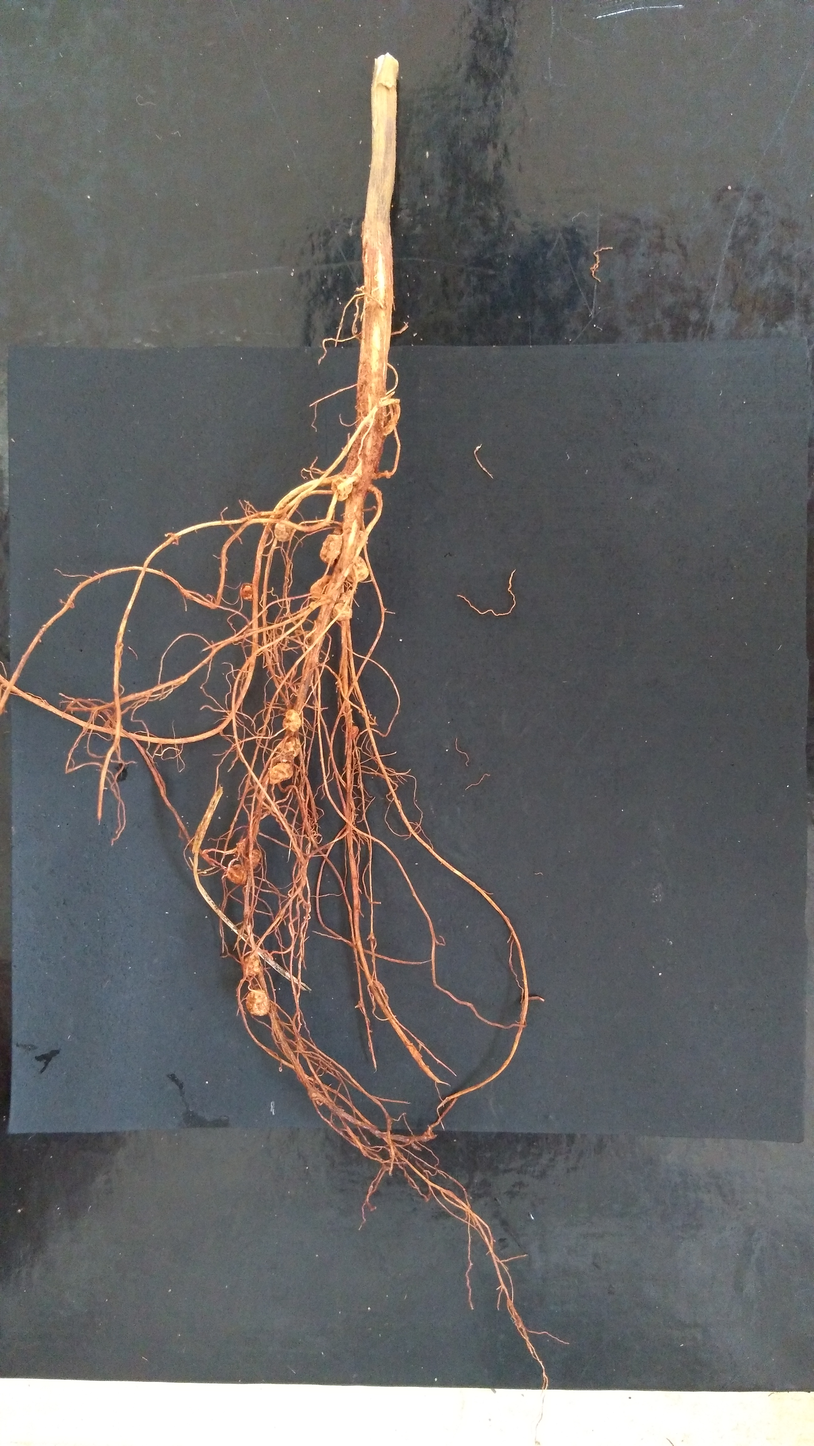nodule: (309, 574, 344, 603), (320, 534, 343, 565), (245, 989, 270, 1016), (276, 736, 301, 762), (346, 555, 369, 583), (333, 590, 353, 621), (269, 761, 293, 784), (331, 477, 353, 501), (226, 863, 248, 884), (274, 519, 294, 542), (282, 709, 302, 732), (243, 954, 261, 976), (242, 849, 261, 868), (354, 530, 368, 550), (240, 585, 253, 601), (349, 725, 359, 740), (311, 1091, 317, 1098)
